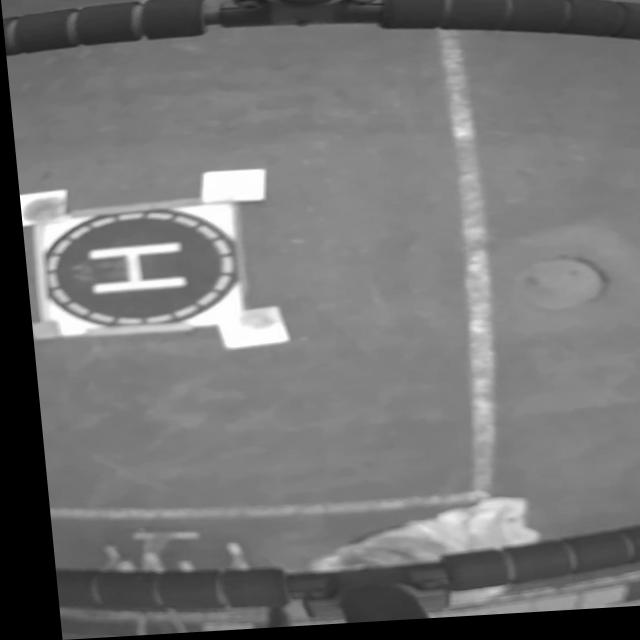Helipad: (79, 244, 180, 296)
